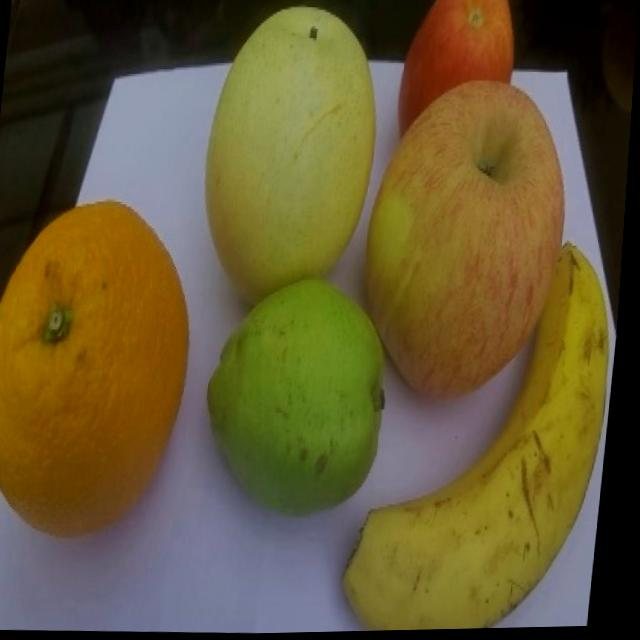Apple: (355, 75, 584, 409), (391, 0, 526, 154)
Banana: (345, 237, 627, 633)
Orange: (0, 195, 212, 545)
